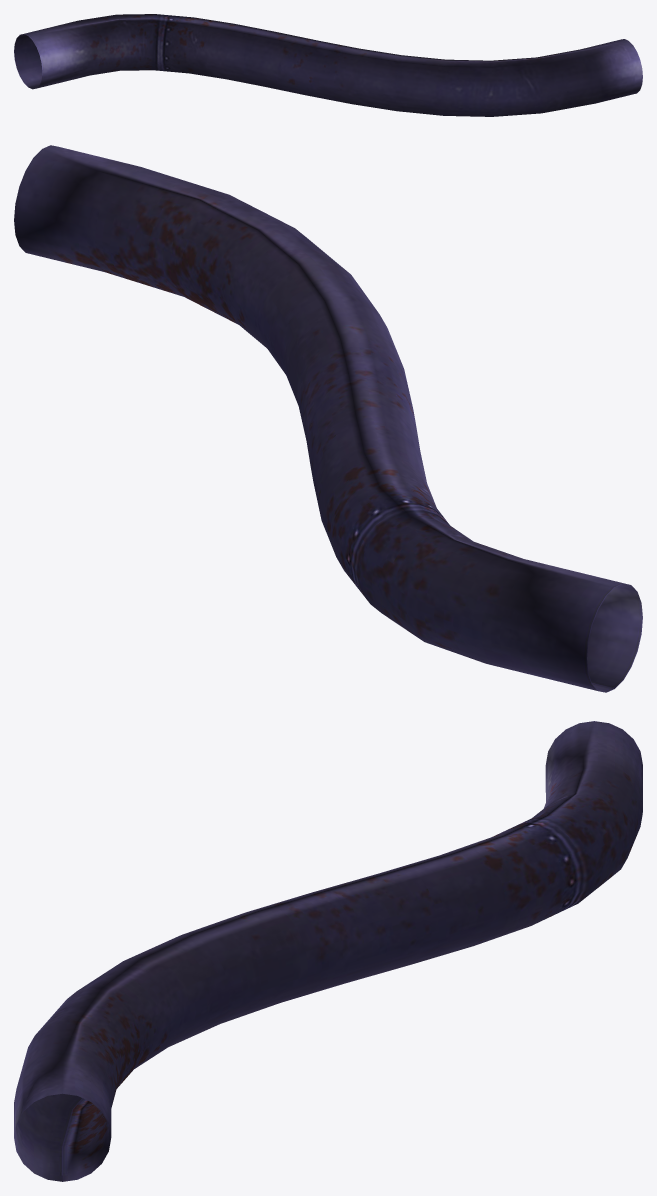
The model's file is Tuyau_5.FBX.
The picture shows the model from 3 angles, top to bottom: view 1: azimuth 30°, elevation 25°; view 2: azimuth 150°, elevation 25°; view 3: azimuth 270°, elevation 25°; orthographic projection. The views are drawn at different scales.
Visible parts, largest first — view 1: Tubes_deux; view 2: Tubes_deux; view 3: Tubes_deux.
Part boxes in pixels (x1,y1,x2,y2): Tubes_deux: [14, 14, 642, 116]; Tubes_deux: [14, 145, 642, 692]; Tubes_deux: [14, 721, 642, 1181].
Bounding box in the file's own units: 417 × 46.04 × 298.
